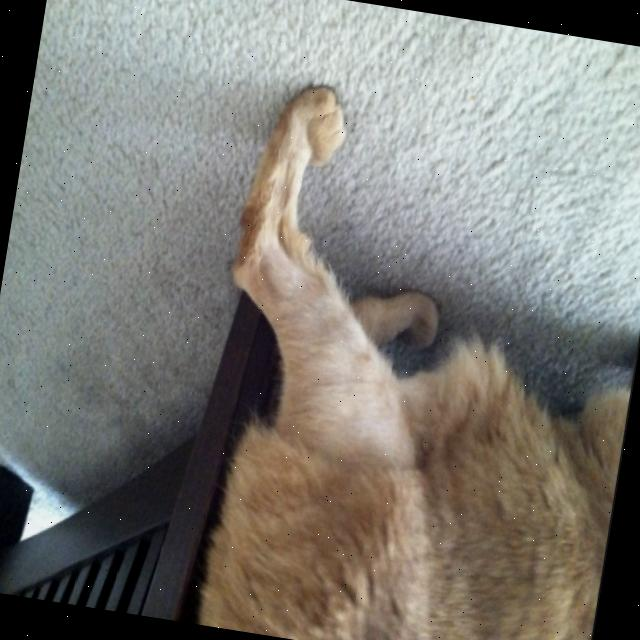cat-hairloss: (285, 359, 403, 458)
